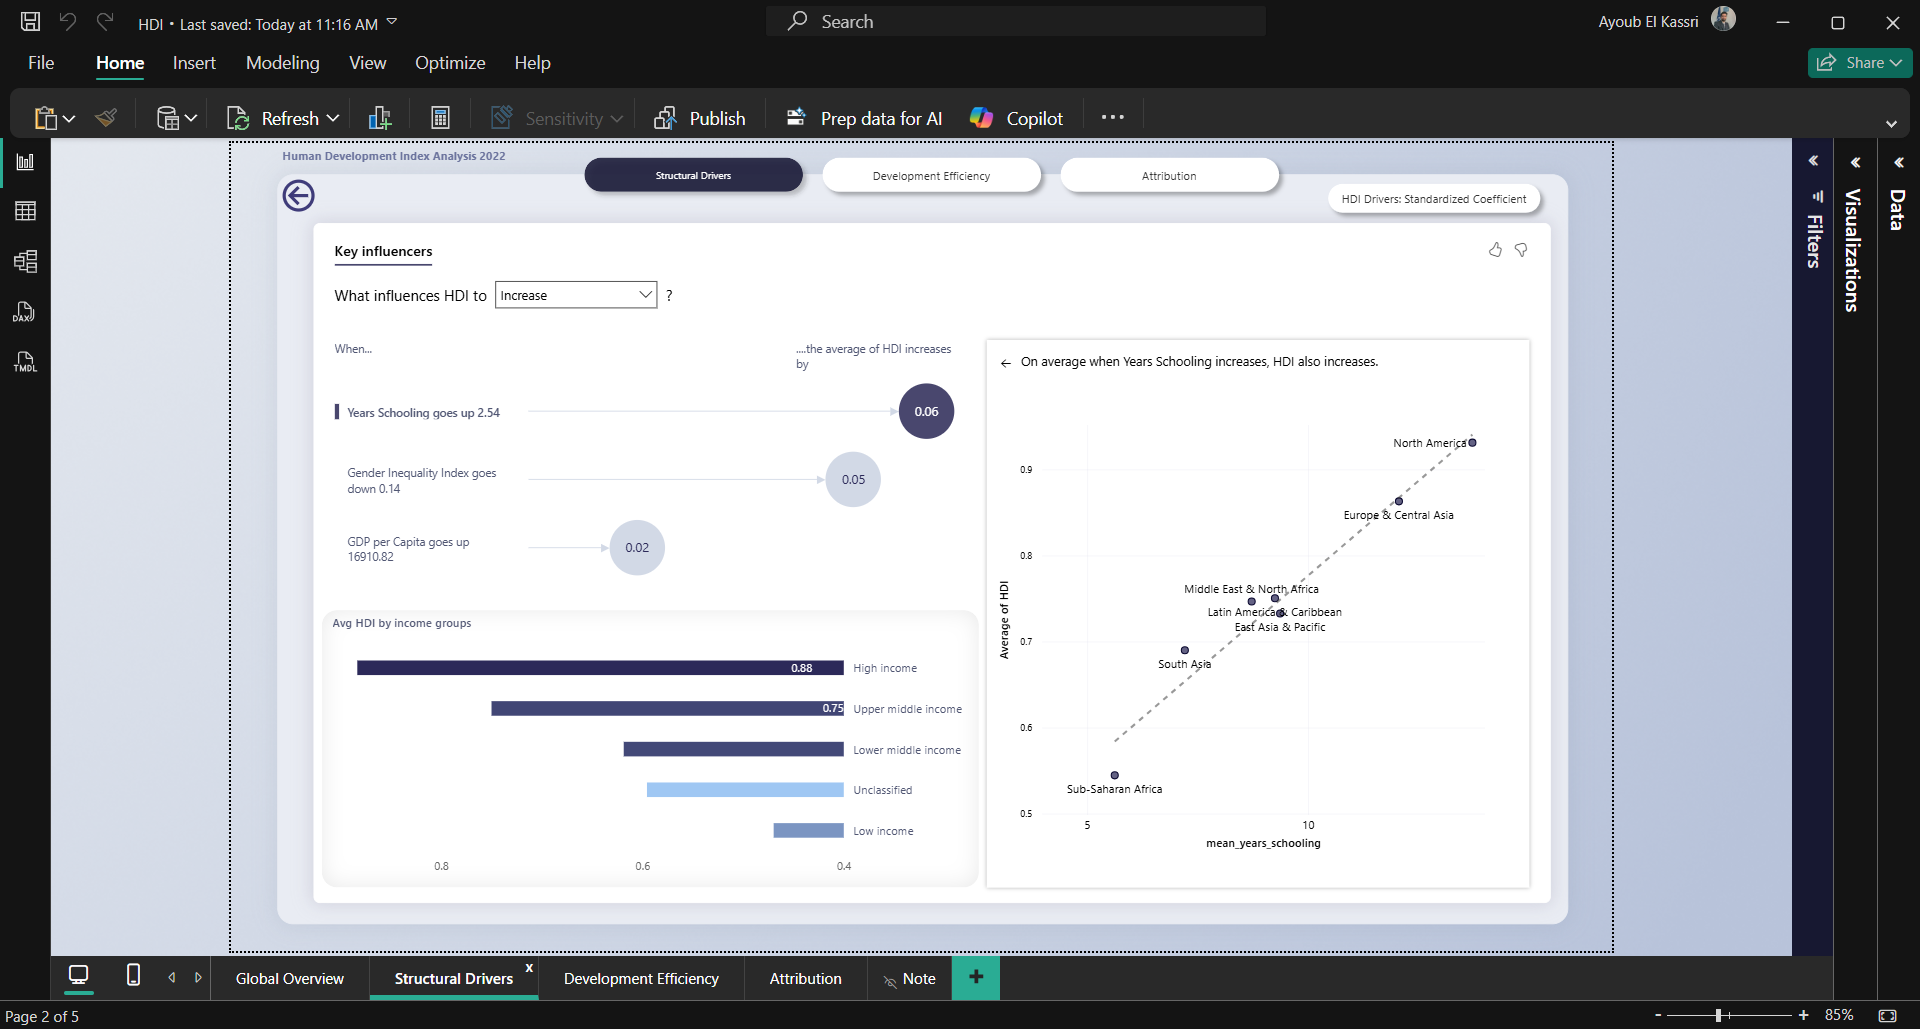

The dashboard page shown, as its layout file describes it:
{"tool":"powerbi","page":{"name":"Structural Drivers","canvas":[1295,758],"ordinal":1},"visuals":[{"type":"shape","box":[43.5,29.8,1210.6,703.2],"z":0},{"type":"textbox","box":[43.5,0.2,275.4,29.3],"z":1000},{"type":"keyDriversVisual","fields":{"Target":["hdi_master.hdi"],"ExplainBy":["Avg(hdi_master.gdp_per_capita)","Avg(hdi_master.mean_years_schooling)","Avg(hdi_master.education_expenditure_pct_gdp)","Avg(hdi_master.health_expenditure_per_capita)","Avg(hdi_master.government_effectiveness)","Avg(hdi_master.gii)"],"Details":["hdi_master.region"]},"box":[77.4,74.6,1159.9,637.6],"z":2000},{"type":"clusteredBarChart","title":"Avg HDI by income groups","fields":{"Y":["Avg(hdi_master.hdi)"],"Category":["hdi_master.income_level"]},"box":[84.5,437.4,617.9,261.8],"z":4000},{"type":"bookmarkNavigator","box":[1019.6,29.3,218,45.7],"z":5000},{"type":"pageNavigator","box":[322.3,4.7,669.2,50.4],"z":6000},{"type":"actionButton","box":[43.6,29.4,42.4,40],"z":6001}]}

Visuals, with their boxes on the page's 1295x758 design canvas (x1, y1, x2, y2). These are canvas units, not pixel positions in the 1920x1029 screenshot, which may show the page scaled, cropped or inside an application window:
shape: [44, 30, 1254, 733]
textbox: [44, 0, 319, 30]
keyDriversVisual - hdi_master.hdi x Avg(hdi_master.gdp_per_capita): [77, 75, 1237, 712]
"Avg HDI by income groups" clusteredBarChart: [84, 437, 702, 699]
bookmarkNavigator: [1020, 29, 1238, 75]
pageNavigator: [322, 5, 992, 55]
actionButton: [44, 29, 86, 69]
